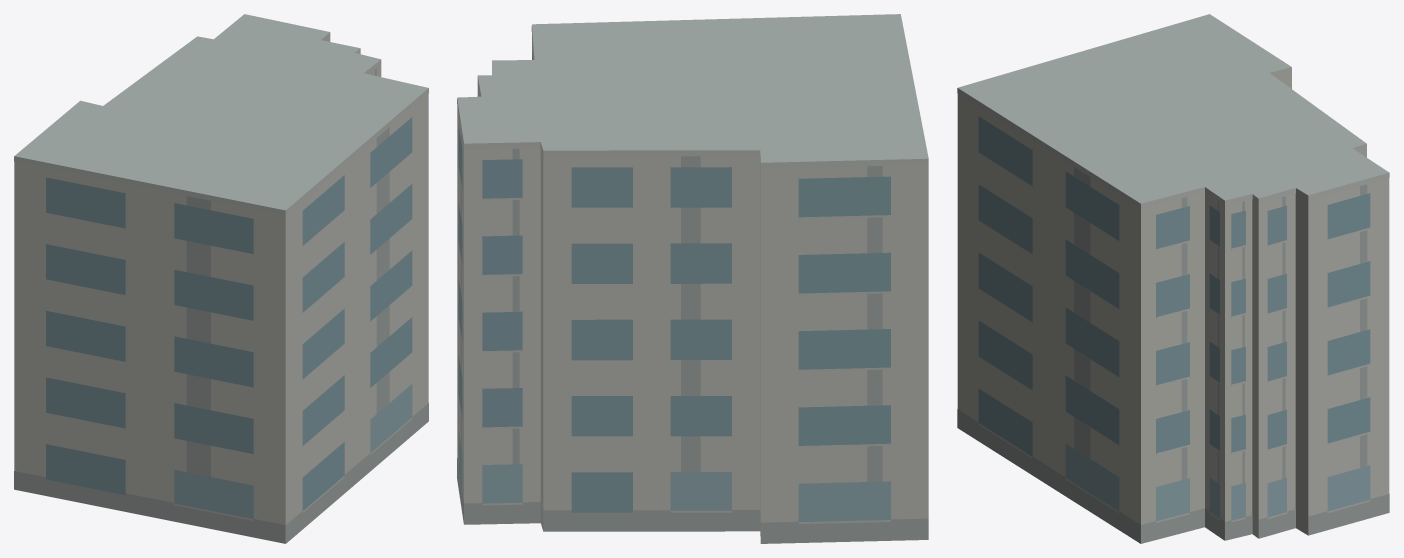
File: survey-upis-32875735.glb
3 views of the same model, side by side, from view 1: azimuth 30°, elevation 25°; view 2: azimuth 150°, elevation 25°; view 3: azimuth 270°, elevation 25° (orthographic). The views are drawn at different scales.
Parts seen in each view (by area): view 1: survey-upis-32875735.tmp; view 2: survey-upis-32875735.tmp; view 3: survey-upis-32875735.tmp.
Boxes of the visible parts, x1=… form: survey-upis-32875735.tmp: x1=14, y1=14, x2=428, y2=543; survey-upis-32875735.tmp: x1=457, y1=14, x2=928, y2=543; survey-upis-32875735.tmp: x1=957, y1=14, x2=1389, y2=543.
Size of the model in its own units: 18.24 by 15.25 by 17.56.
